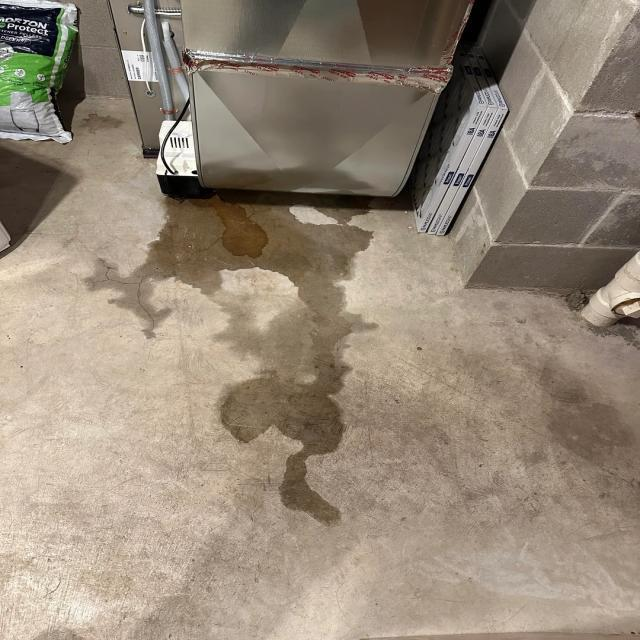water accumulation: (89, 187, 378, 529)
